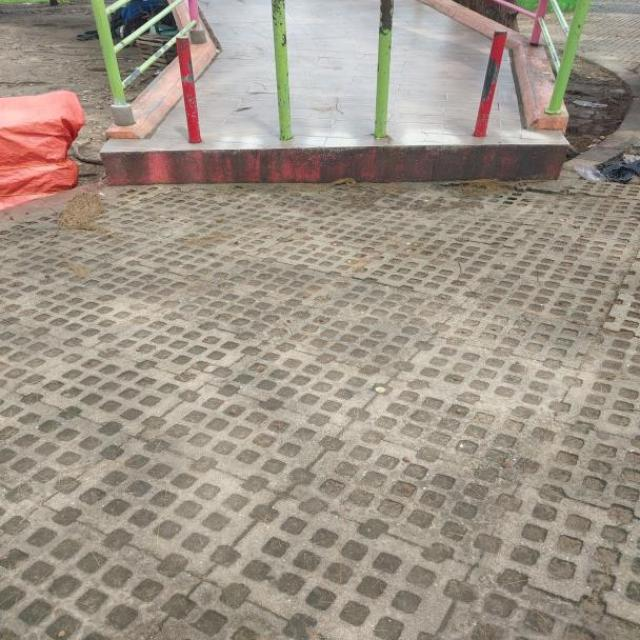barrier ahead at: (267, 2, 305, 148), (167, 36, 214, 147), (367, 0, 399, 143), (477, 25, 510, 150)
